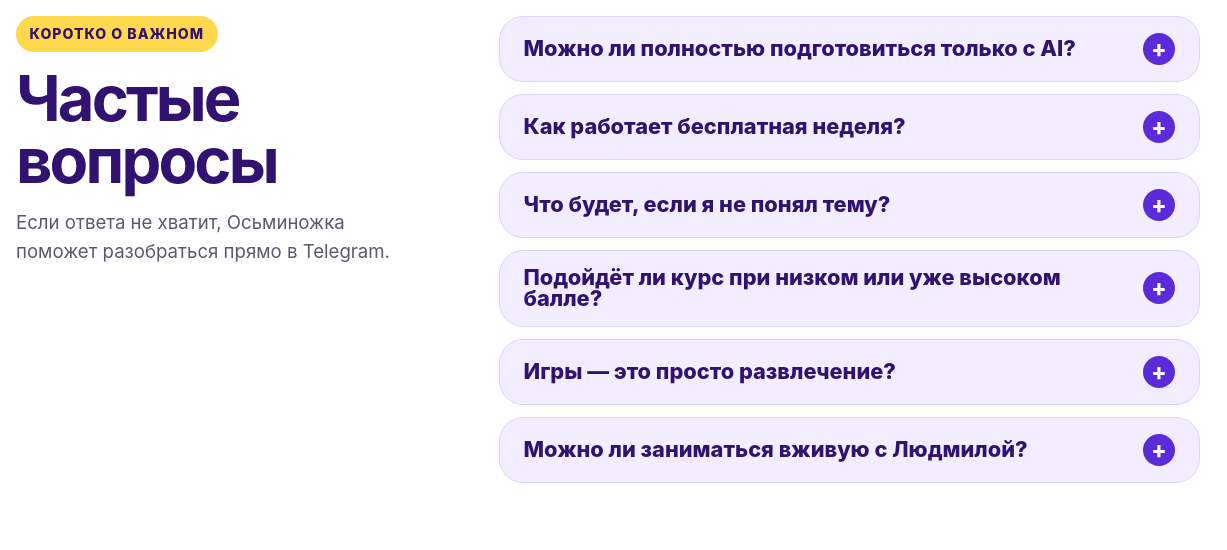
Test: closes an open answer when its question is selected again
The width and height of the screenshot is (1227, 550).
Click the button "Что будет, если я не понял тему? +" at (849, 205), box [500,173,1199,237]
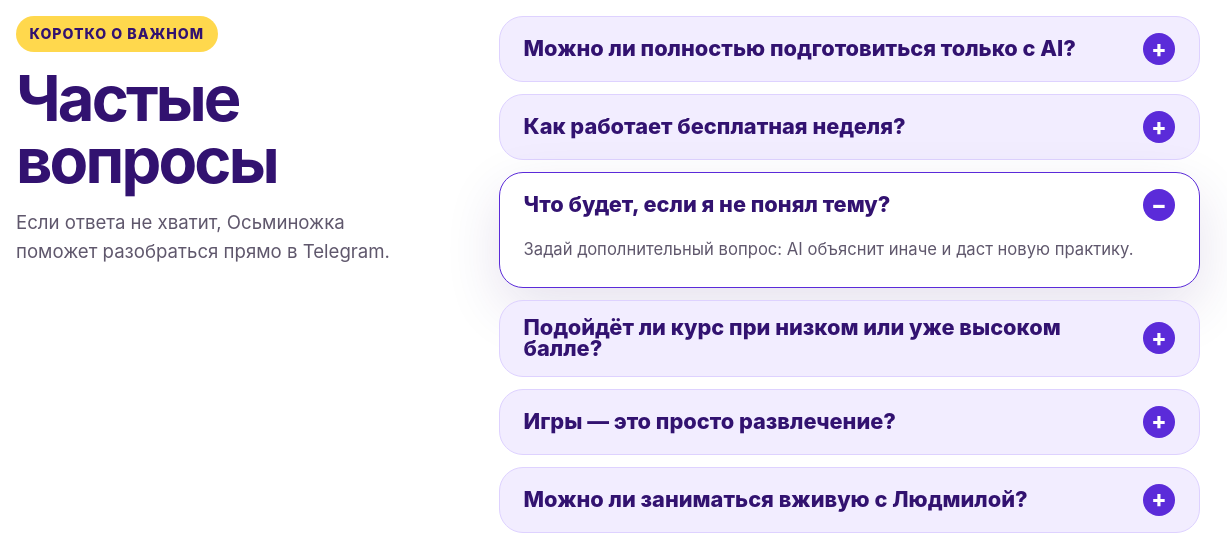
Click the button "Что будет, если я не понял тему? −" at (849, 205), box [500,173,1199,237]
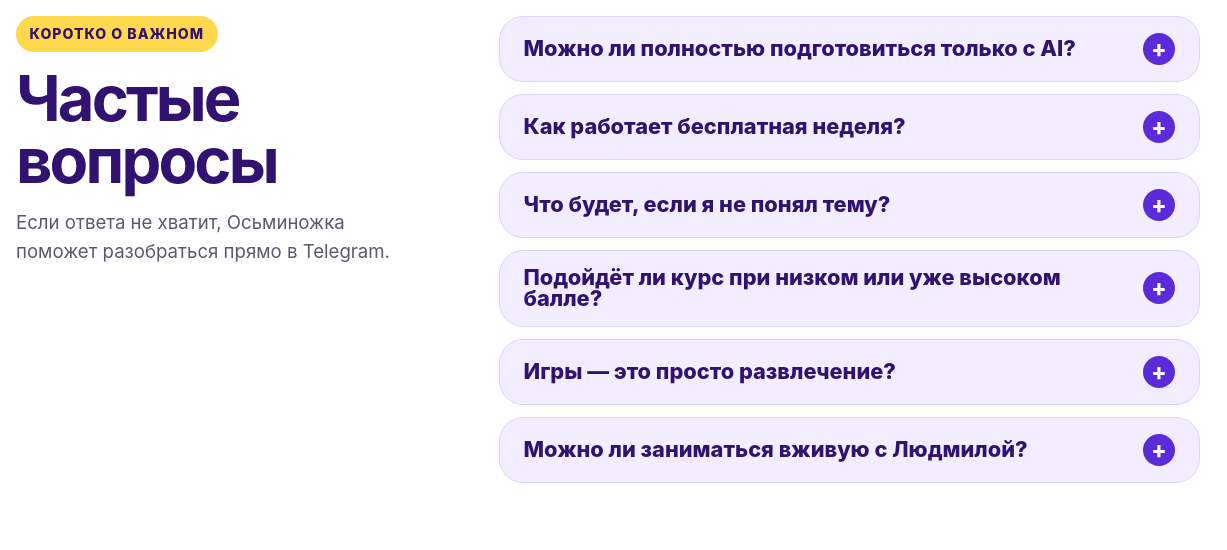
Expected: the button "Что будет, если я не понял тему? +" is collapsed, [500,173,1199,237]
